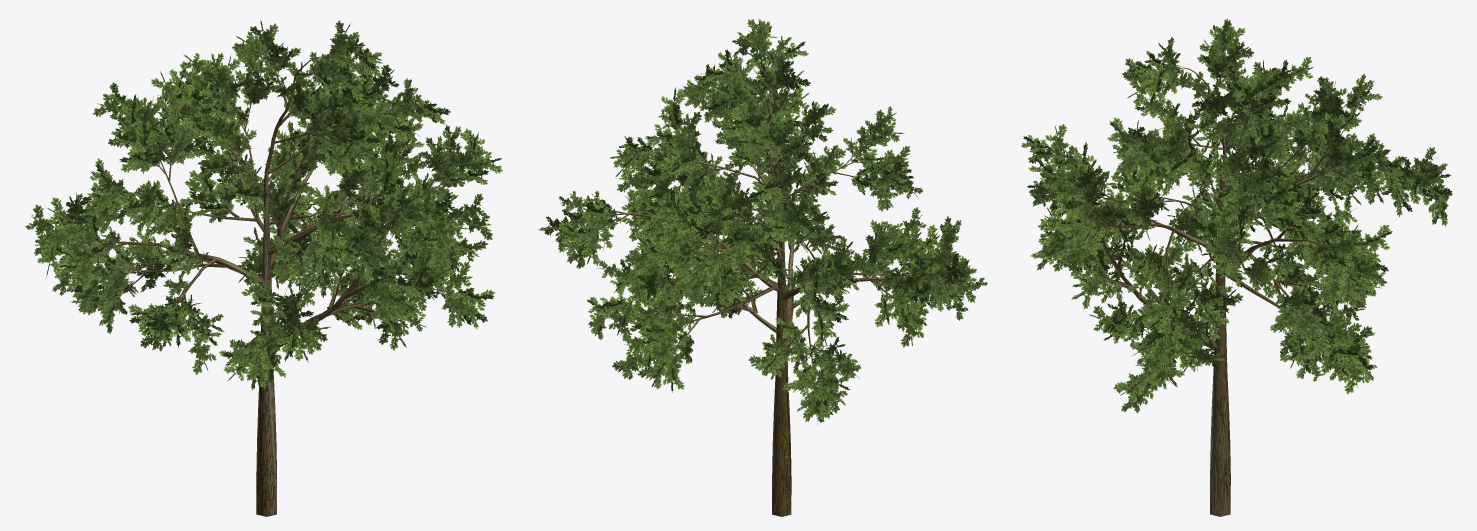
File: oak_a.glb
The picture shows the model from 3 angles, left to right: view 1: azimuth 30°, elevation 25°; view 2: azimuth 150°, elevation 25°; view 3: azimuth 270°, elevation 25°; orthographic projection. The views are drawn at different scales.
Visible parts, largest first — view 1: Tree; view 2: Tree; view 3: Tree.
Part boxes in pixels (box(x1,y1,x2,y2)): Tree: box(25, 20, 503, 516); Tree: box(538, 19, 987, 516); Tree: box(1021, 18, 1452, 516).
Bounding box in the file's own units: 57.83 × 65.45 × 52.36.
Materials: 2 (2 with a texture image).
